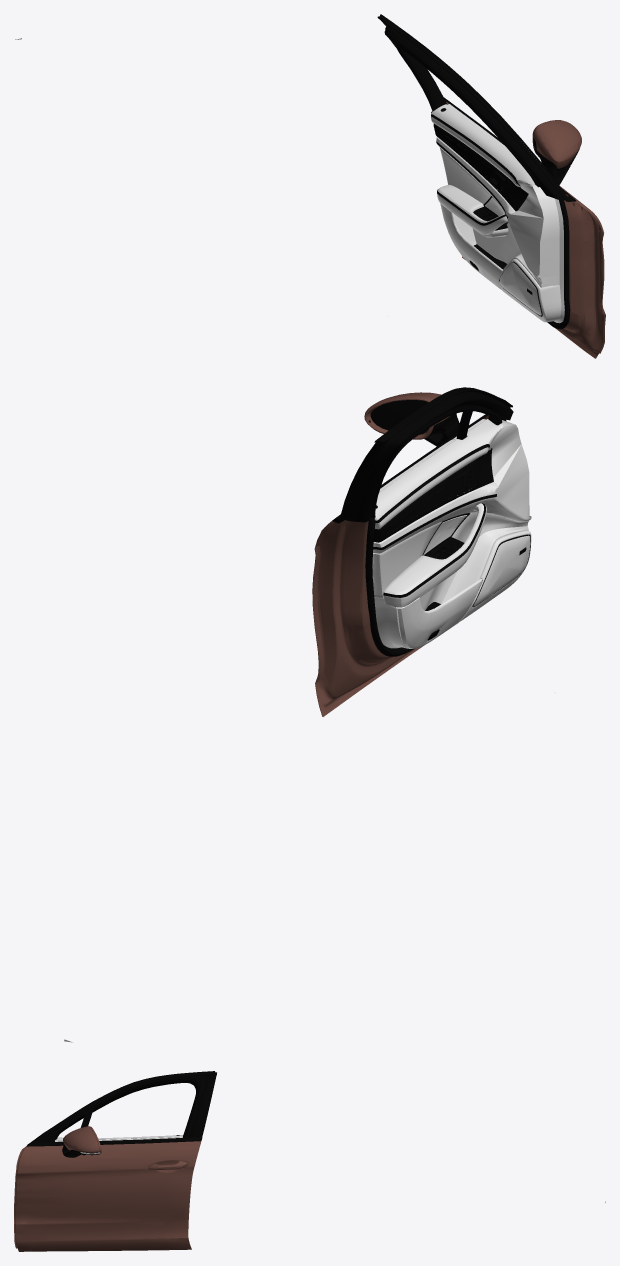
Rendered from Stanga_Fata_Maro.fbx.
The picture shows the model from 3 angles, top to bottom: view 1: azimuth 30°, elevation 25°; view 2: azimuth 150°, elevation 25°; view 3: azimuth 270°, elevation 25°; orthographic projection. The views are drawn at different scales.
Parts seen in each view (by area): view 1: door_LF; view 2: door_LF; view 3: door_LF.
Boxes of the visible parts, x1,y1,x2,y2 form: door_LF: (15,14,605,358); door_LF: (64,387,531,1042); door_LF: (14,1071,605,1251).
Size of the model in its own units: 1401 by 1977 by 6627.
